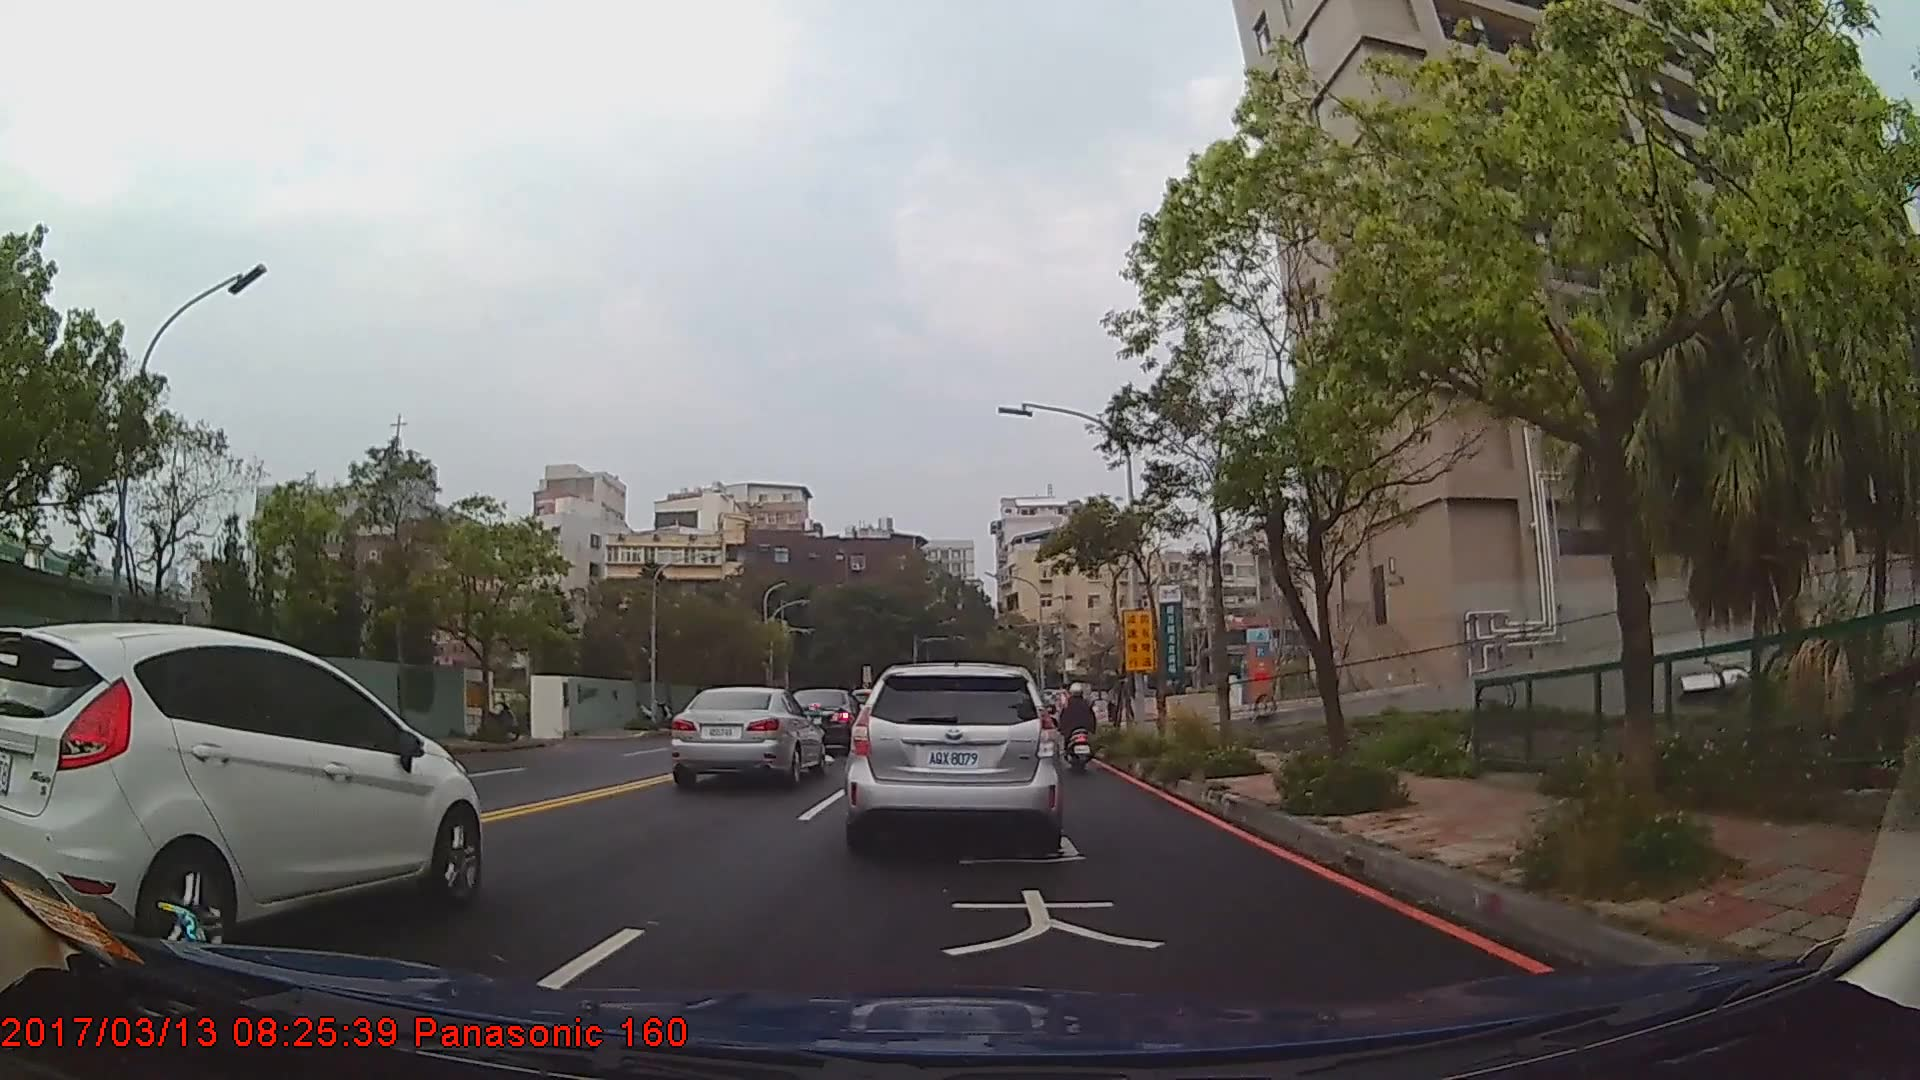rider: (1060, 683, 1099, 775)
vehicle: (0, 616, 481, 969), (842, 655, 1062, 848), (665, 684, 825, 787), (783, 686, 862, 751)
